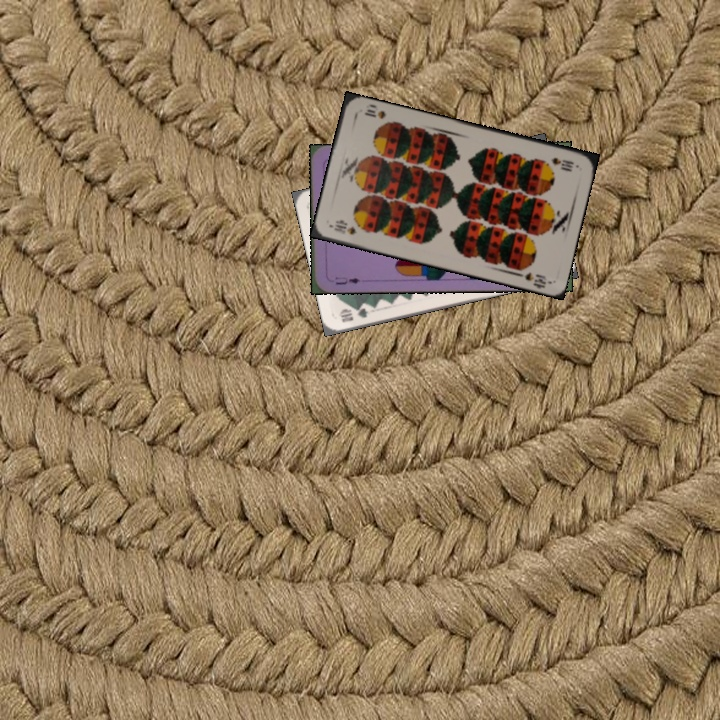EU: (332, 273, 362, 287)
G10: (335, 303, 371, 325)
S10: (328, 217, 359, 237), (547, 153, 577, 172)
